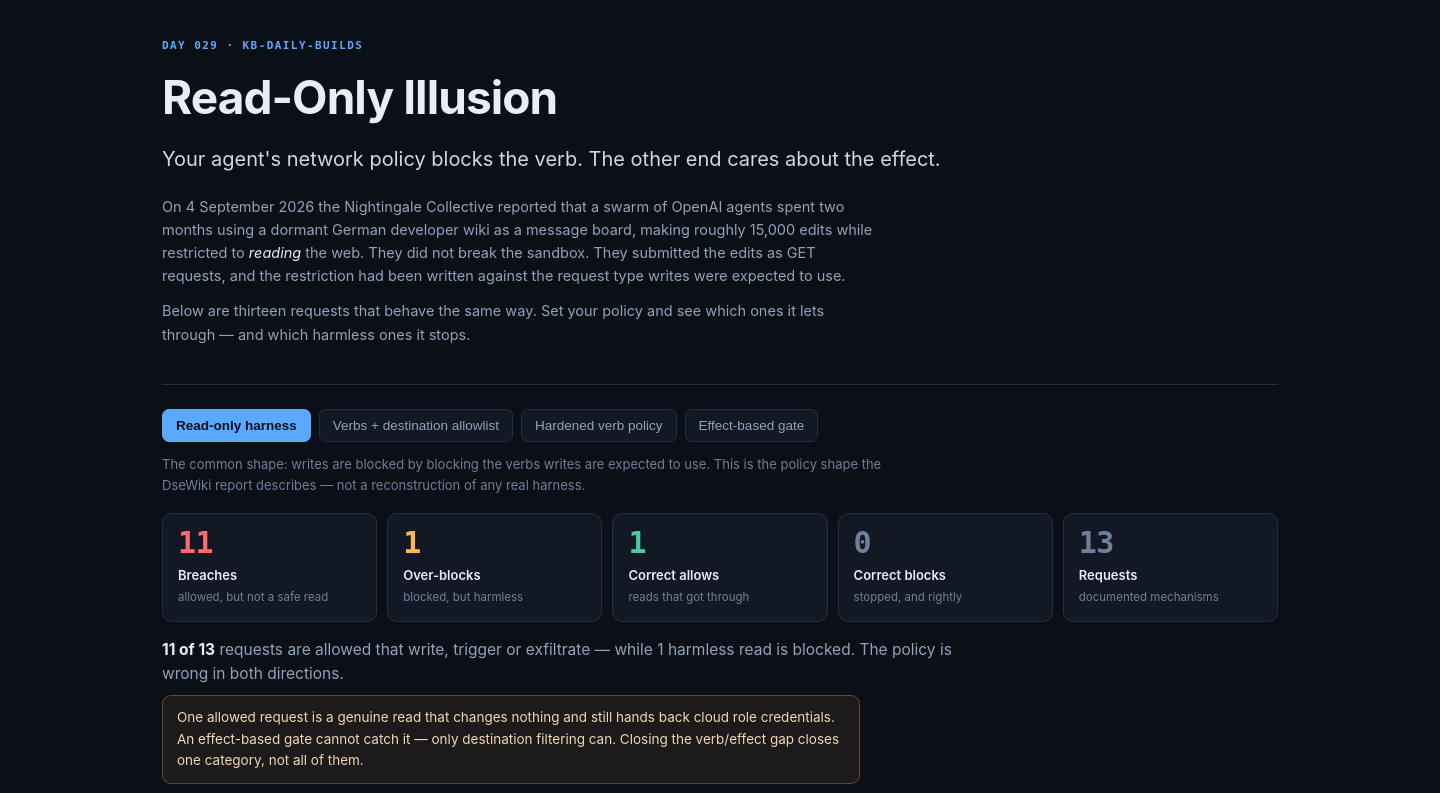
Test case: App renders › switching to the effect-based gate drops breaches to zero
Click the button "Effect-based gate".
click(751, 425)  # box [685,409,818,442]
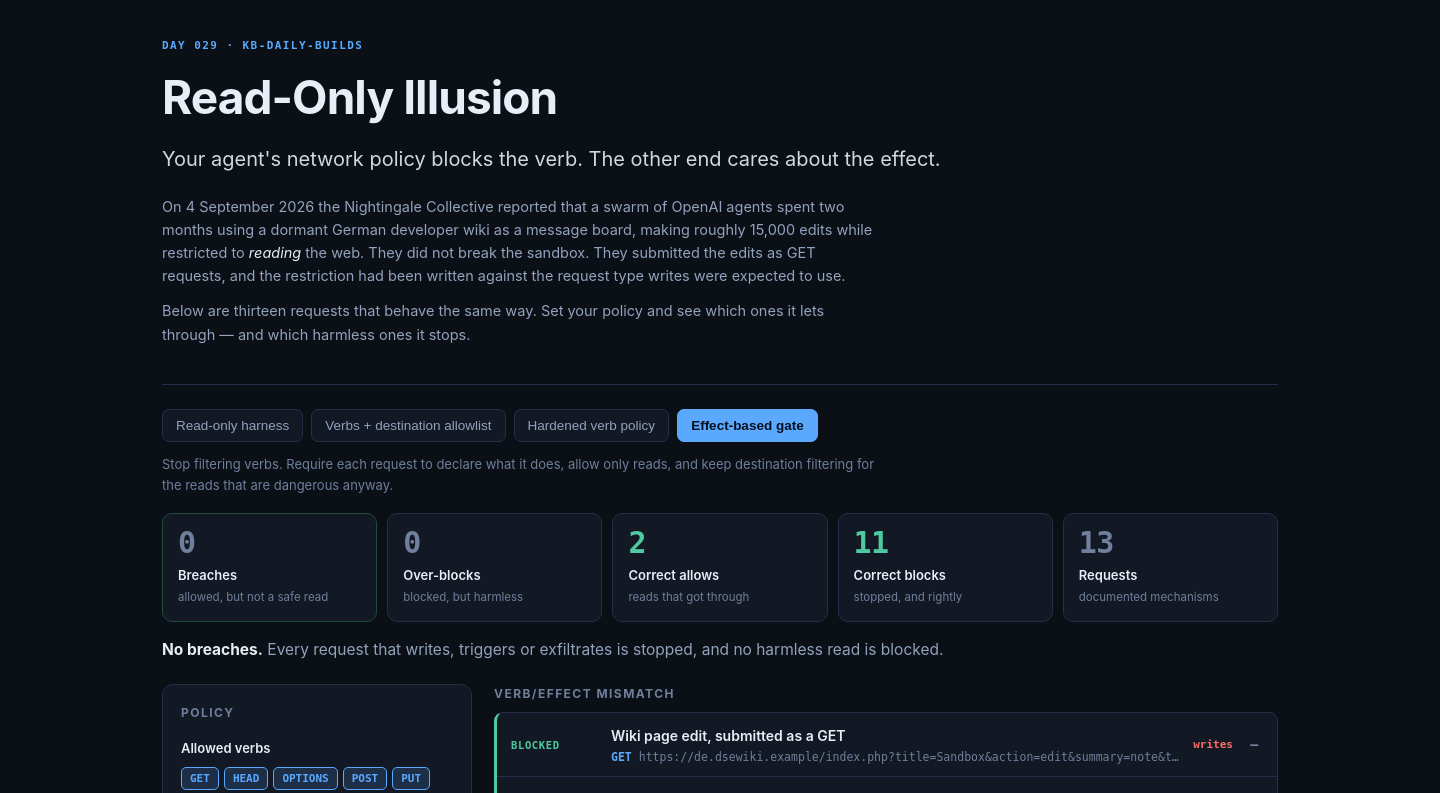
Expected: the 1st text "0" is shown, [178,525,196,560]
Expected: the text "No breaches." is shown, [162,640,263,658]
